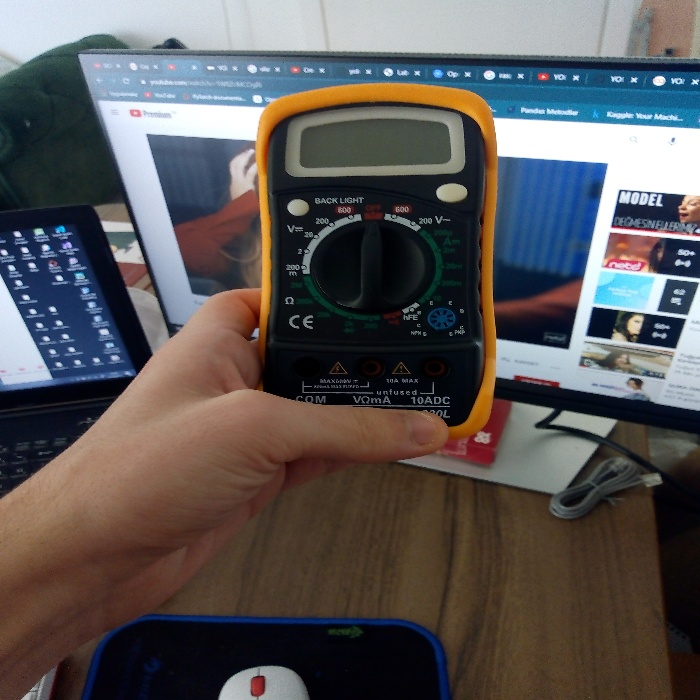multimetre: (242, 48, 507, 436)
